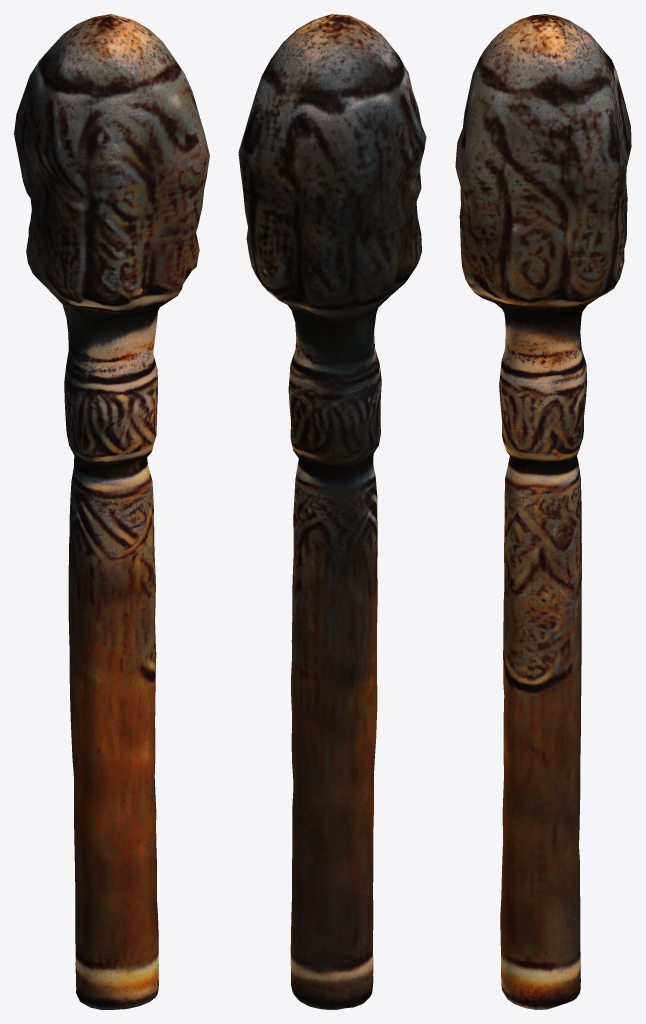
File: 6af8c6099eff_59dc94e84d2d_model.glb
3 views of the same model, side by side, from view 1: azimuth 30°, elevation 25°; view 2: azimuth 150°, elevation 25°; view 3: azimuth 270°, elevation 25° (orthographic).
Parts seen in each view (by area): view 1: mesh; view 2: mesh; view 3: mesh.
Part boxes in pixels (<box>): mesh: <box>14,14,209,1009</box>; mesh: <box>238,14,426,1009</box>; mesh: <box>455,14,631,1009</box>.
Size of the model in its own units: 0.1519 by 0.9996 by 0.1635.
1 material, 1 textured.
